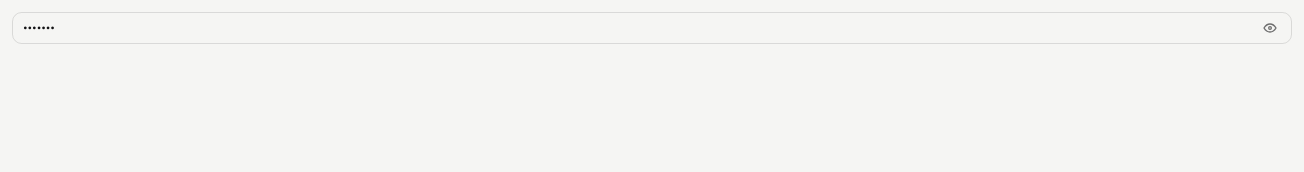
Test: PasswordInput › hides the value until the eye is pressed, then hides it again
The image size is (1304, 172).
Click the button with test id "secret-toggle".
click(1270, 28)  # box [1248, 12, 1292, 44]
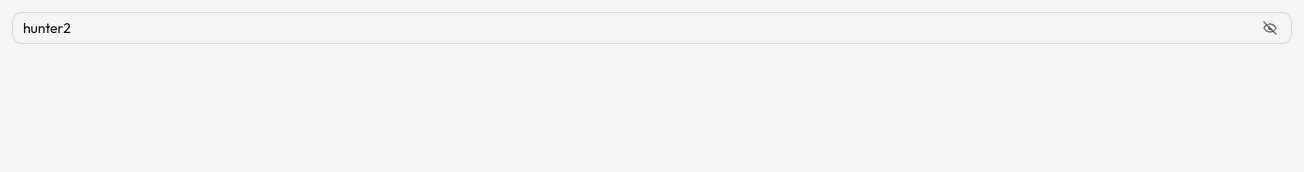
Now the field with test id "secret" shows its text, box [12, 12, 1292, 44]
Click the button with test id "secret-toggle".
click(1270, 28)  # box [1248, 12, 1292, 44]
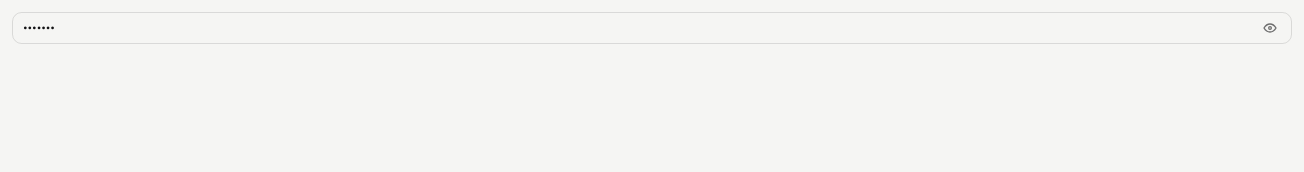
Now the password field with test id "secret" hides its text, box [12, 12, 1292, 44]
